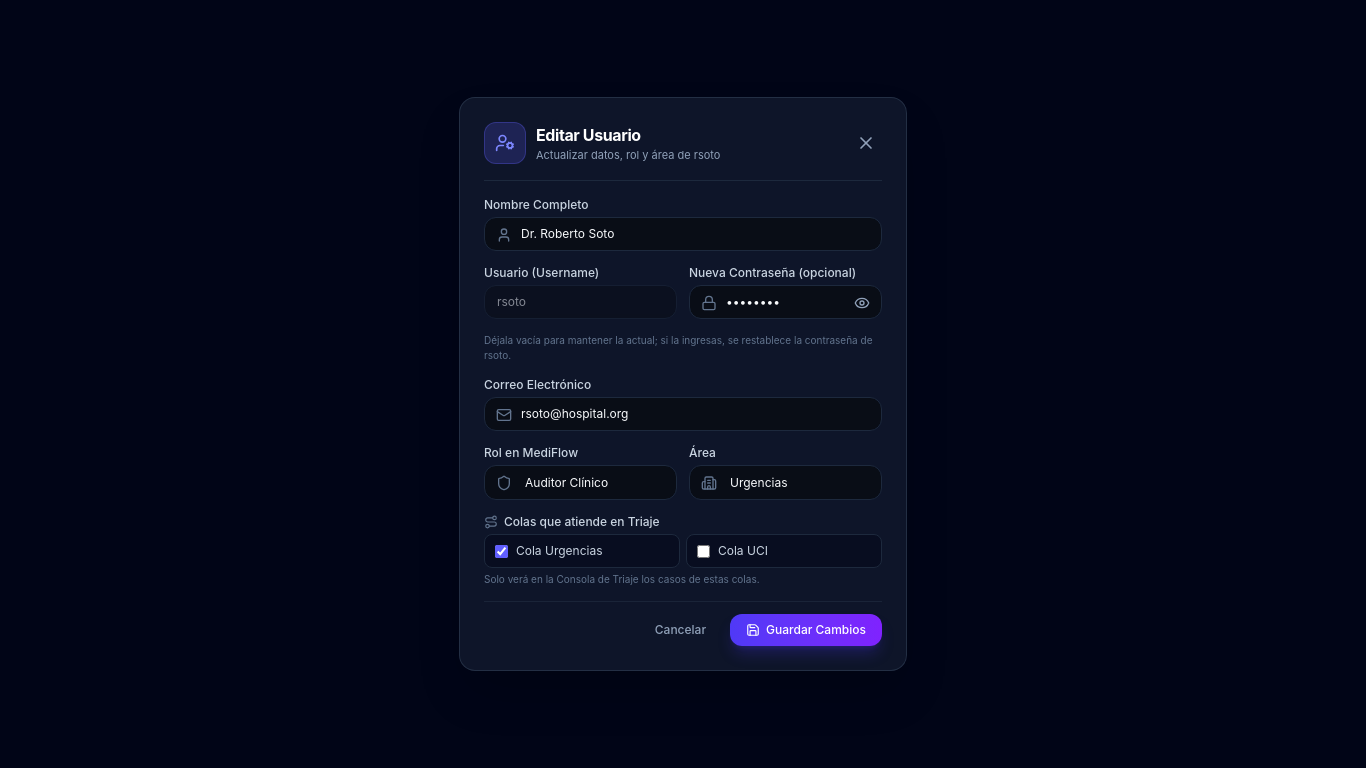
UserFormModal user management and role assignment › validates the minimum length of the reset password
In the password field labelled "Nueva Contraseña (opcional)": (786, 302) [689, 285, 882, 319], type "corta"
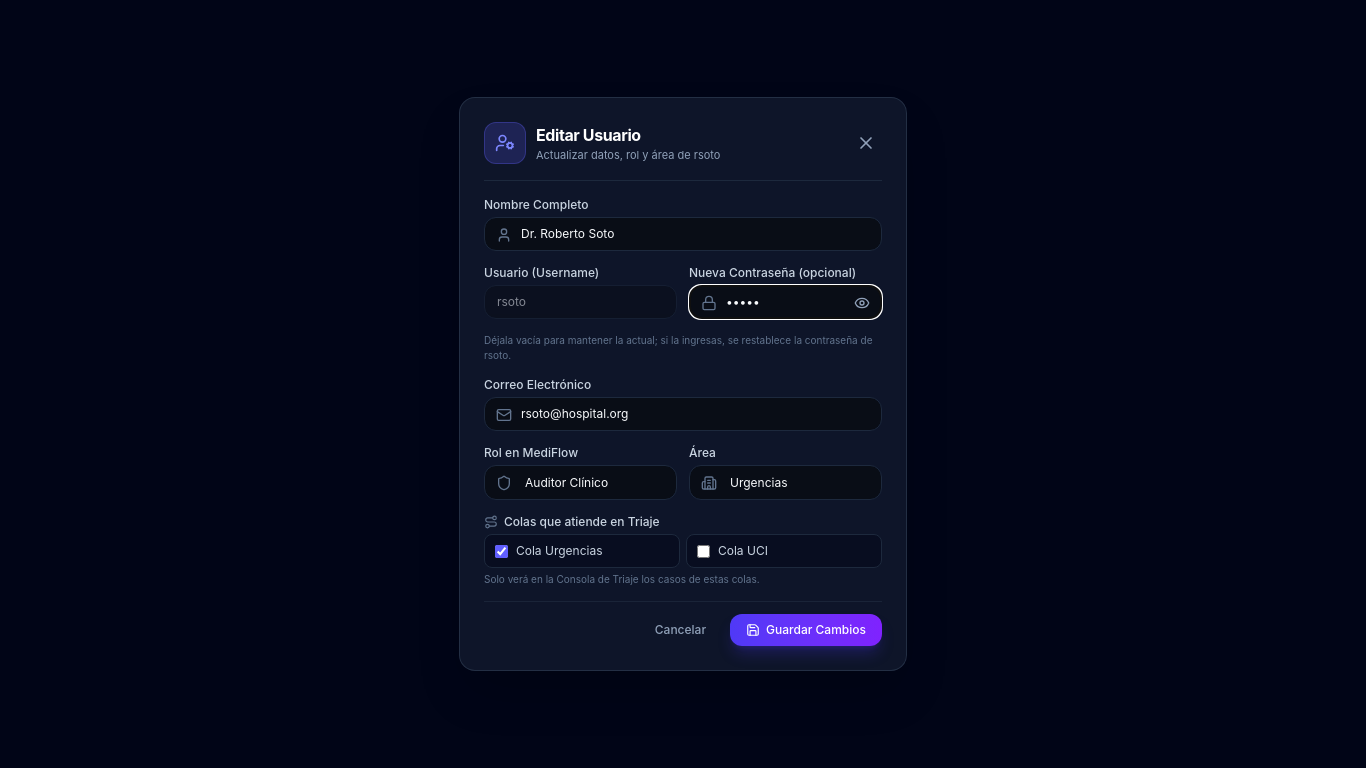
Submit the form from the button "Guardar Cambios", box [730, 614, 882, 646]
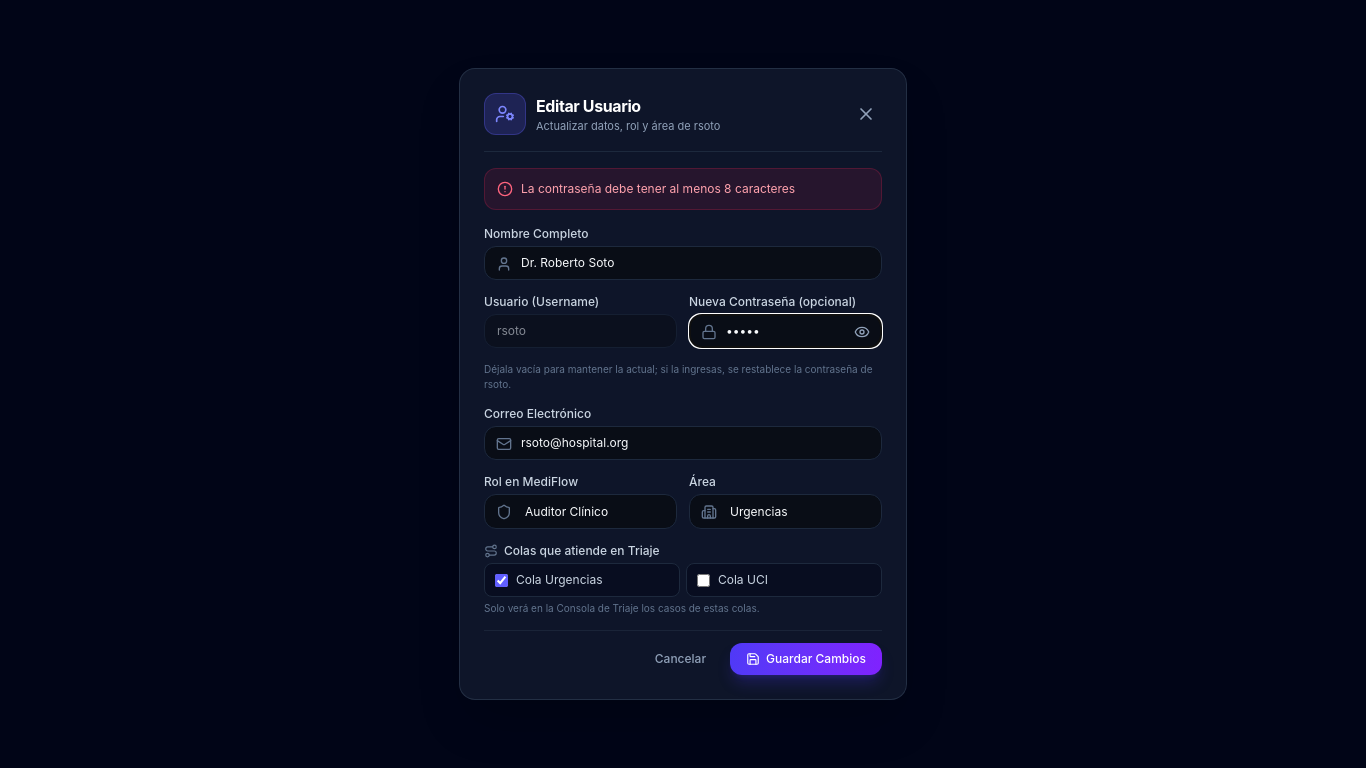
Check: the text "La contraseña debe tener al menos 8 caracteres" is shown, box [521, 181, 795, 197]
